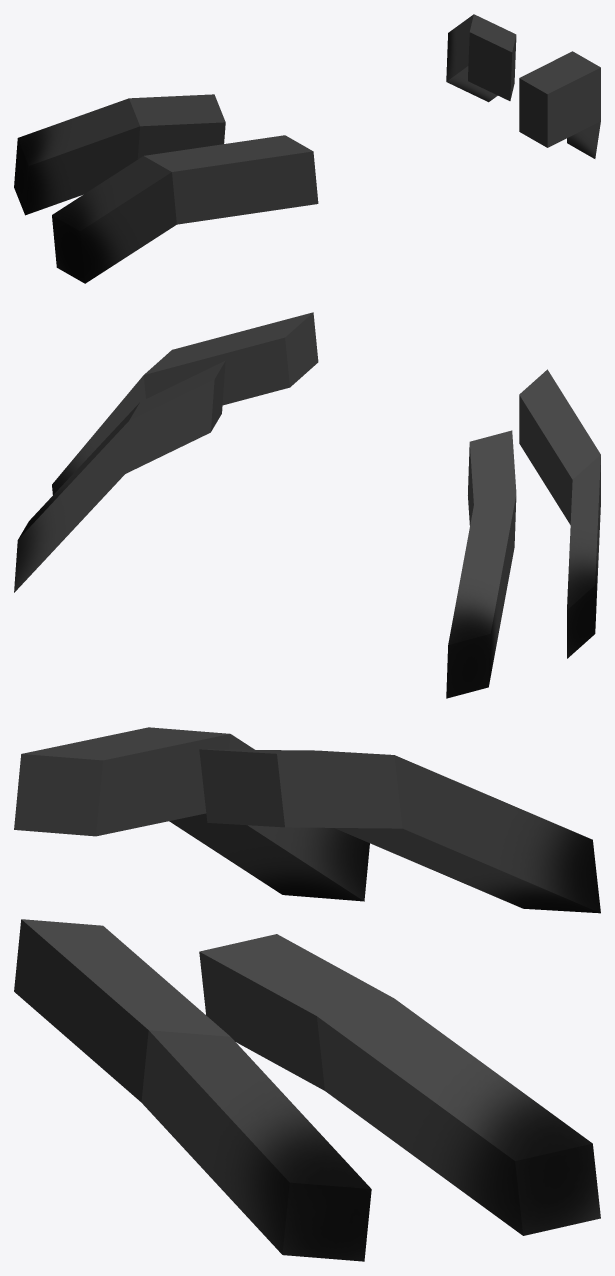
Rendered from playerLeg.obj.
3 views of the same model, one above another, from view 1: azimuth 30°, elevation 25°; view 2: azimuth 150°, elevation 25°; view 3: azimuth 270°, elevation 25° (orthographic). The views are drawn at different scales.
Visible parts, largest first — view 1: 後ろ足; view 2: 後ろ足; view 3: 後ろ足.
Boxes of the visible parts, x1,y1,x2,y2 form: 後ろ足: (14, 14, 600, 283); 後ろ足: (14, 312, 600, 698); 後ろ足: (14, 727, 600, 1261).
Bounding box in the file's own units: 2.09 × 0.6569 × 1.43.
